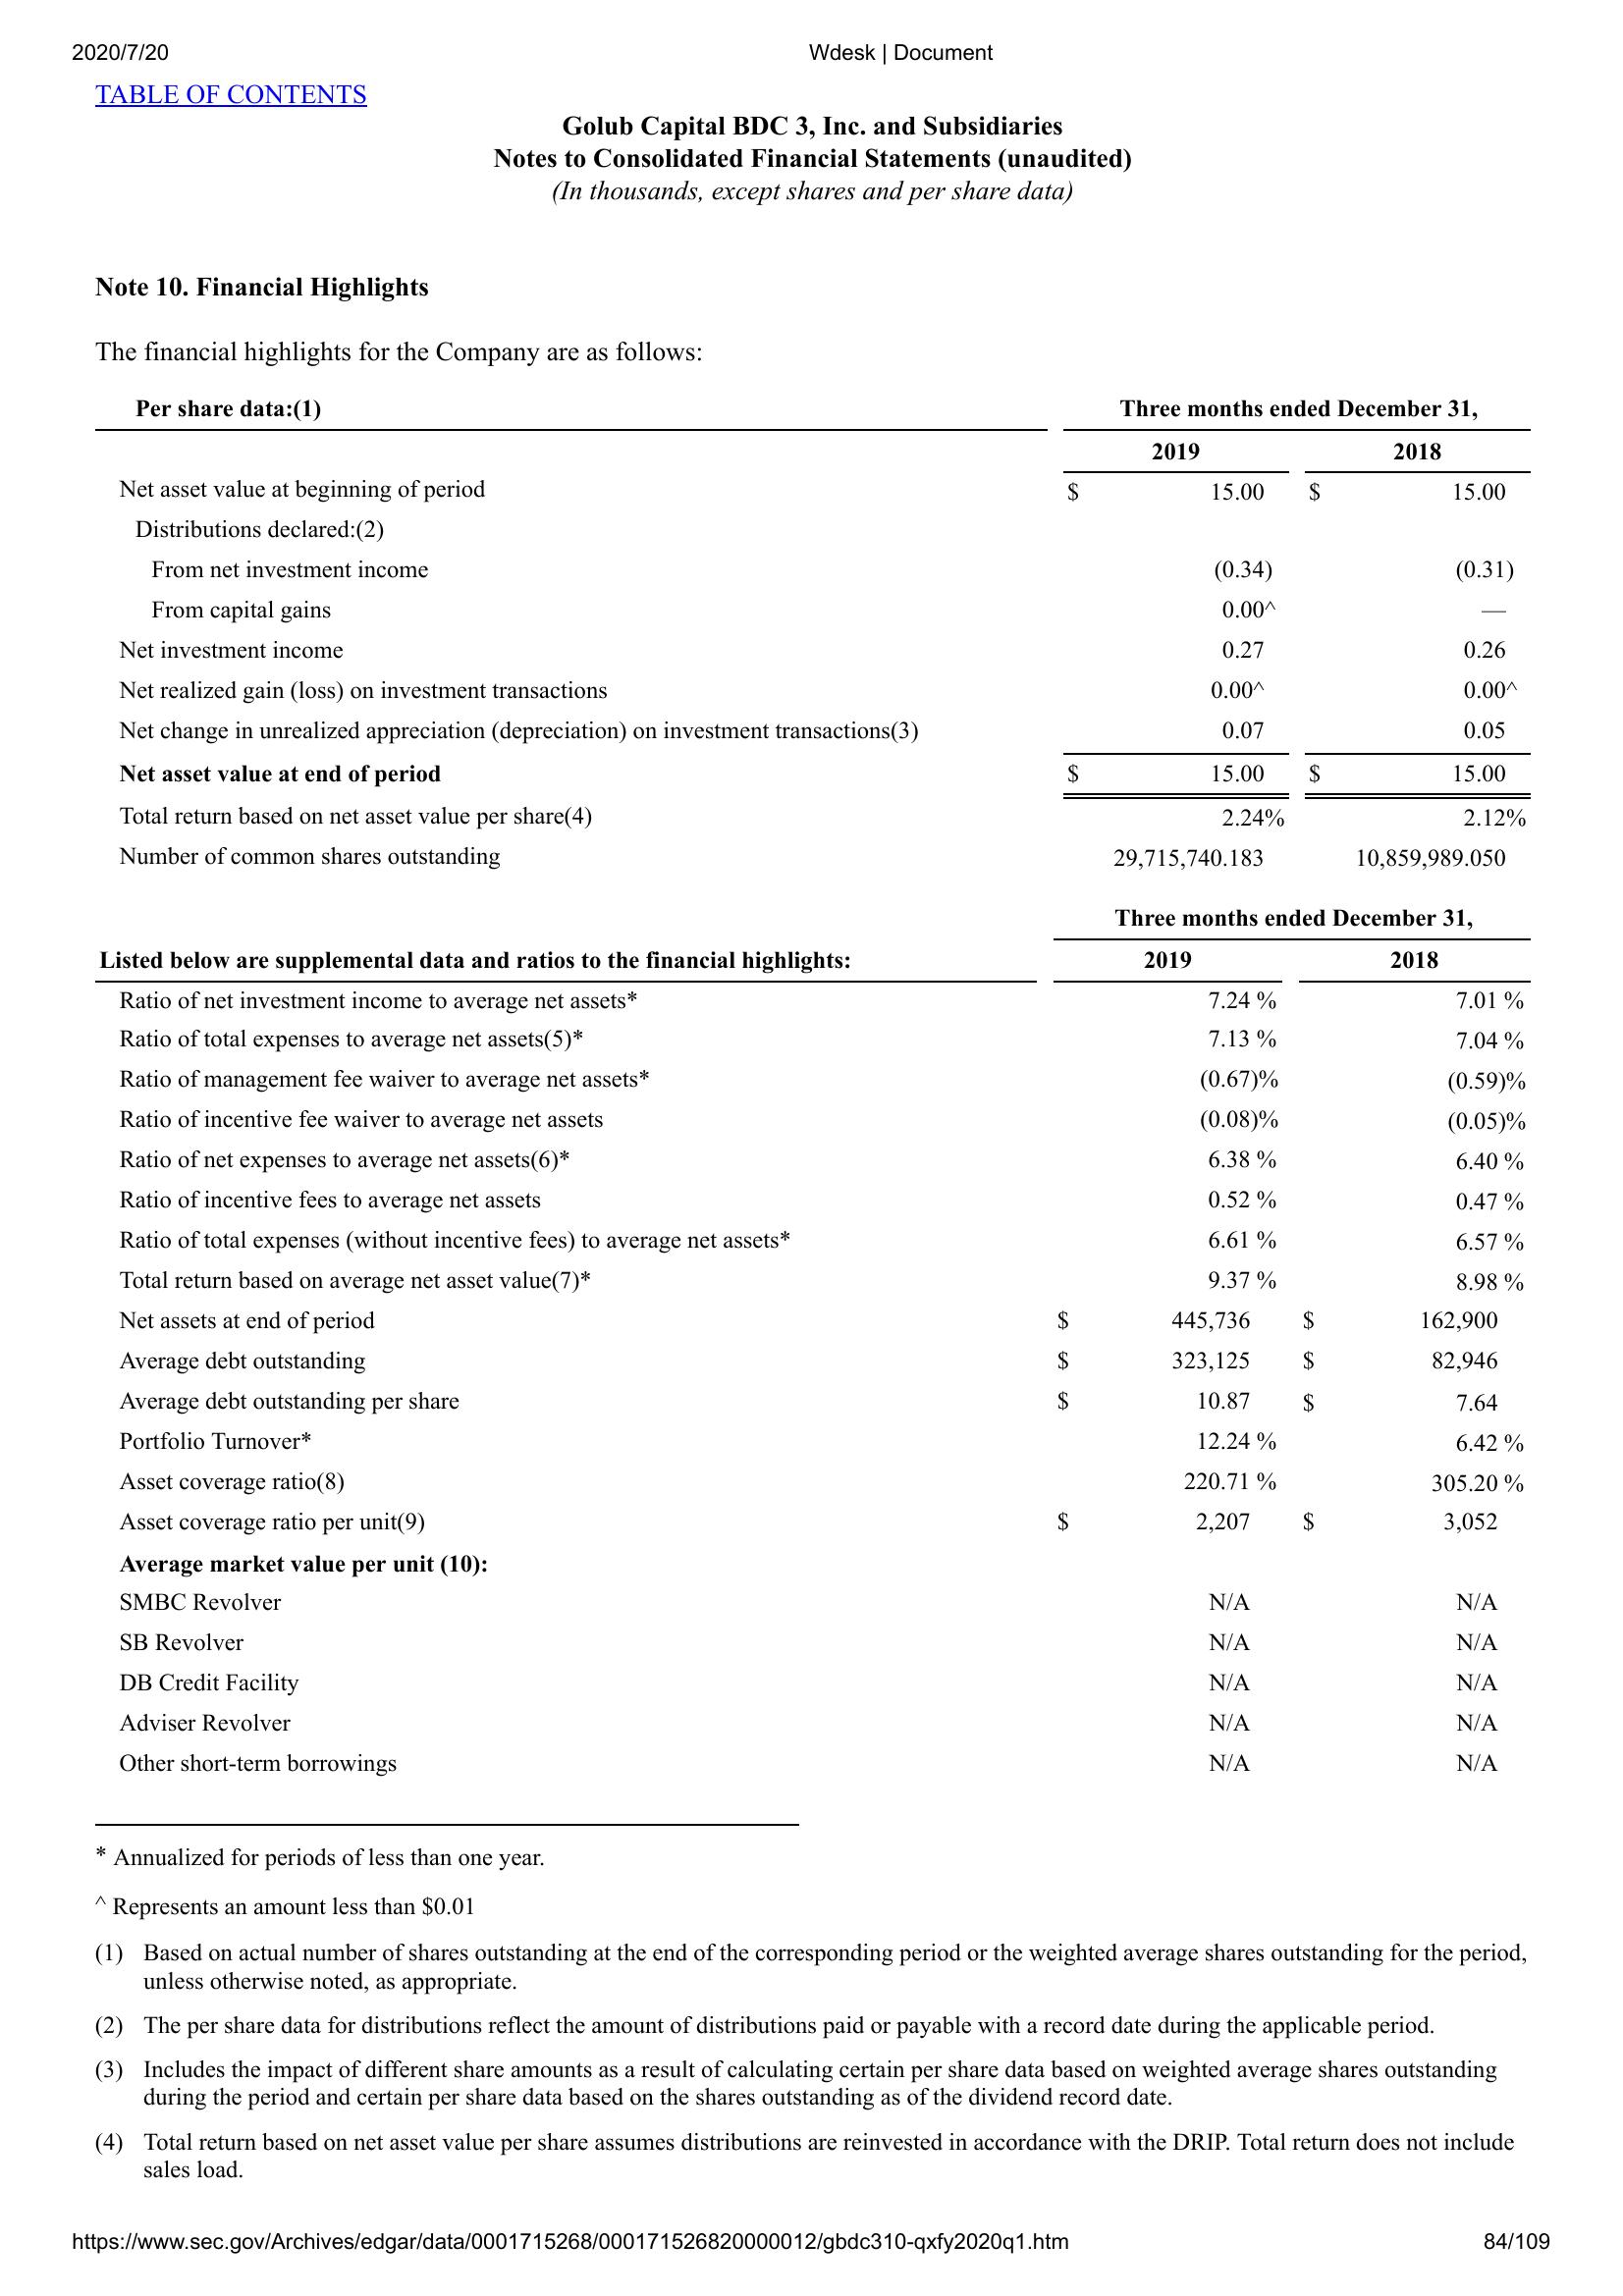table: (93, 909, 1544, 1787), (93, 384, 1549, 876)
